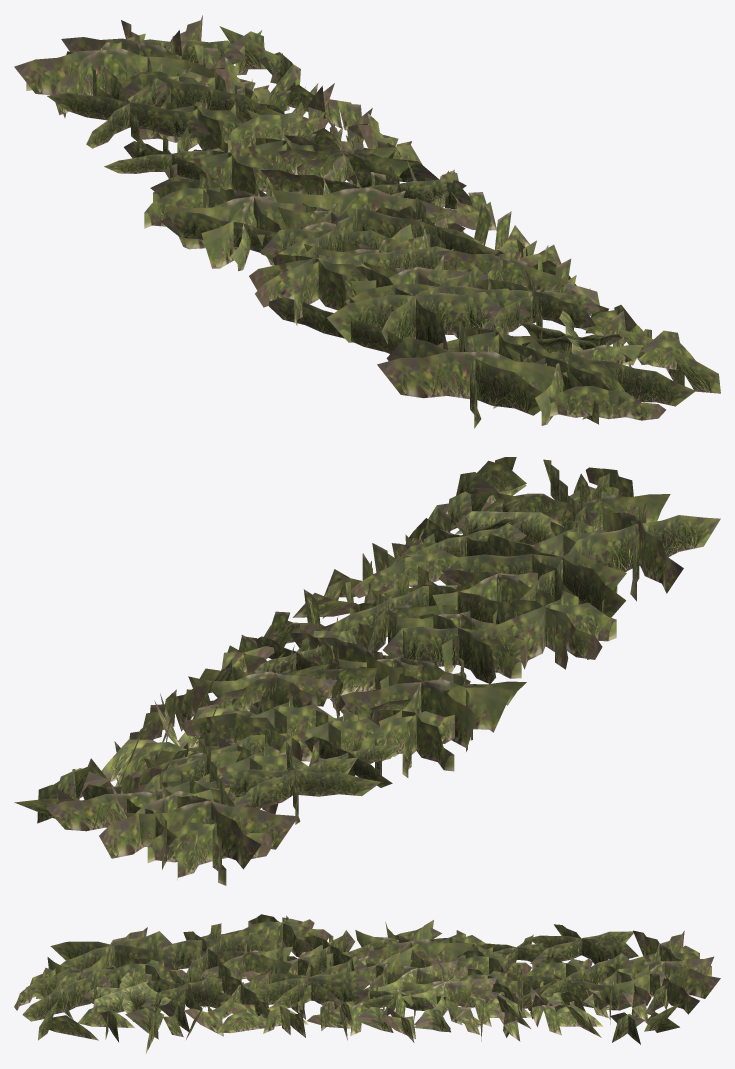
The model's file is sm10_015_roadplant01a.fbx.
3 views of the same model, one above another, from view 1: azimuth 30°, elevation 25°; view 2: azimuth 150°, elevation 25°; view 3: azimuth 270°, elevation 25° (orthographic). The views are drawn at different scales.
Visible parts, largest first — view 1: LOD_1_Group_0_Sub_1__st1_plant01_Mat_Env_AlphaTest; view 2: LOD_1_Group_0_Sub_1__st1_plant01_Mat_Env_AlphaTest; view 3: LOD_1_Group_0_Sub_1__st1_plant01_Mat_Env_AlphaTest.
Part boxes in pixels (x1,y1,x2,y2): LOD_1_Group_0_Sub_1__st1_plant01_Mat_Env_AlphaTest: [14, 15, 720, 428]; LOD_1_Group_0_Sub_1__st1_plant01_Mat_Env_AlphaTest: [14, 457, 720, 885]; LOD_1_Group_0_Sub_1__st1_plant01_Mat_Env_AlphaTest: [14, 914, 720, 1054].
Size of the model in its own units: 2.98 by 0.7209 by 8.87.
